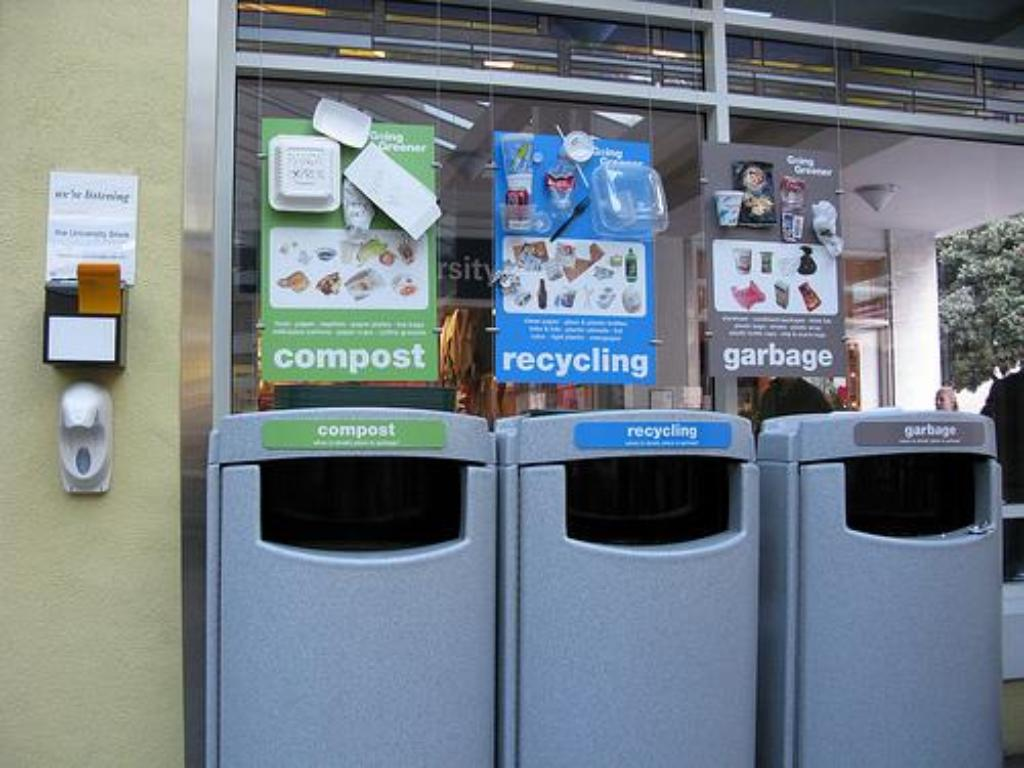dustbin: (214, 416, 1017, 768), (212, 405, 505, 768), (500, 412, 776, 768), (766, 417, 1007, 768)
